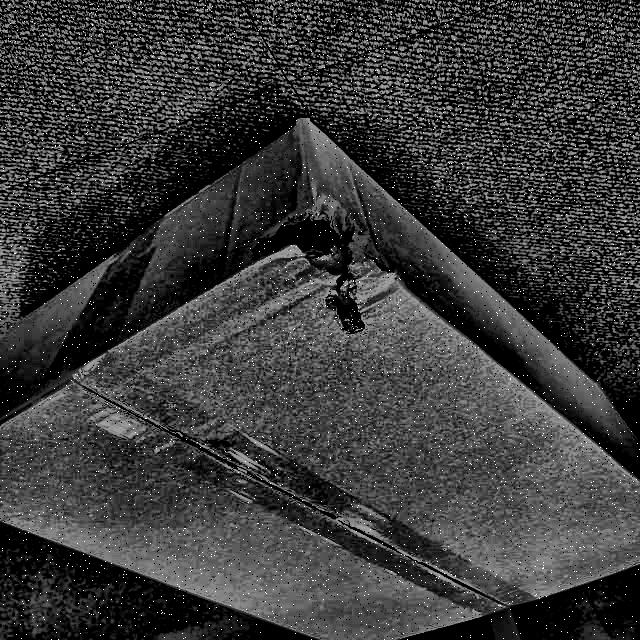box: (1, 106, 640, 640)
hole: (239, 204, 395, 334)
